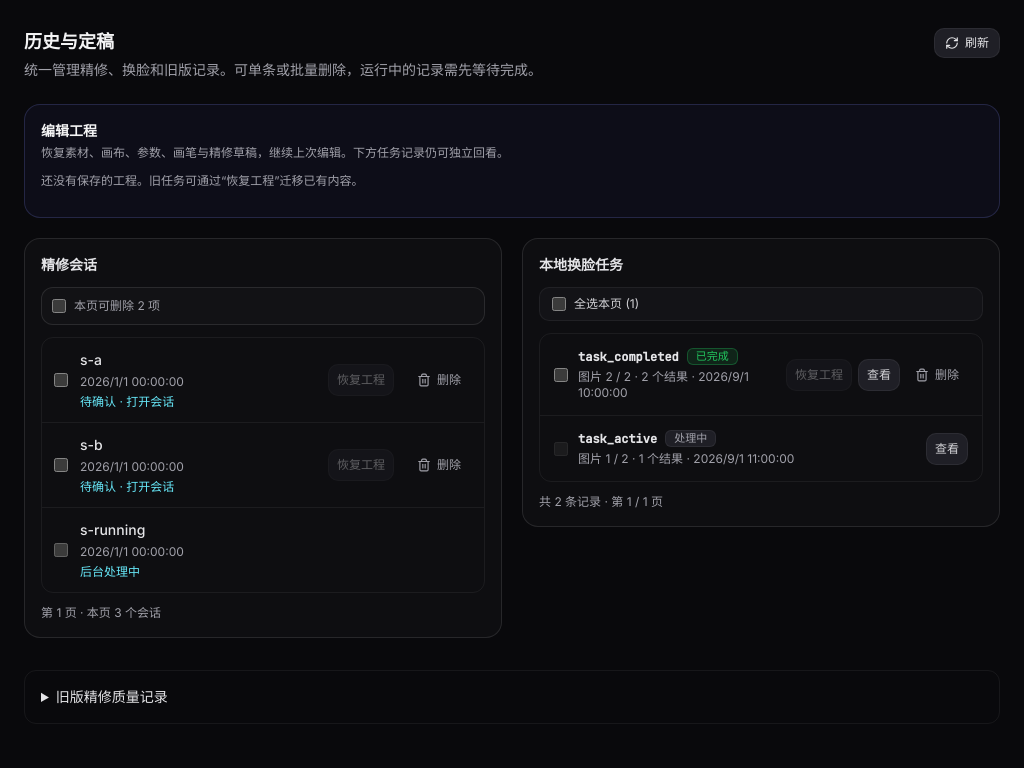
Test: HistoryWorkspace batch task deletion › batch deletes idle refinement sessions with individual revisions and retains conflicts
Click the checkbox named "选择精修会话 s-a" at (61, 380), box [54,373,68,387]
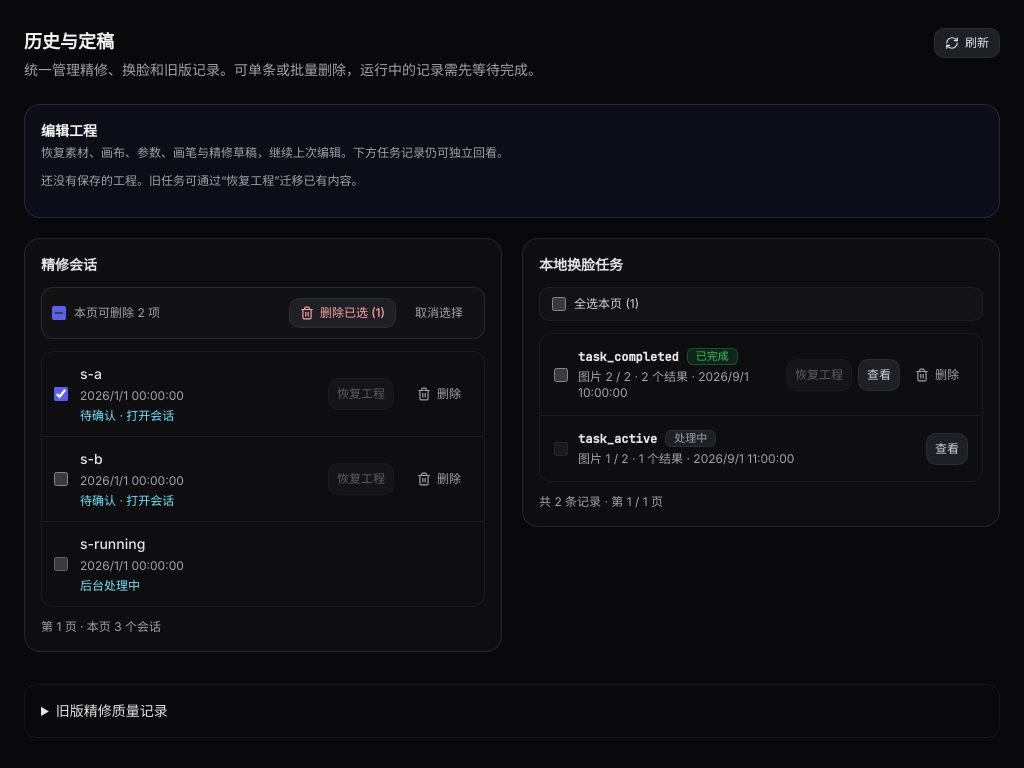
Click the checkbox named "选择精修会话 s-b" at (61, 479), box [54,472,68,486]
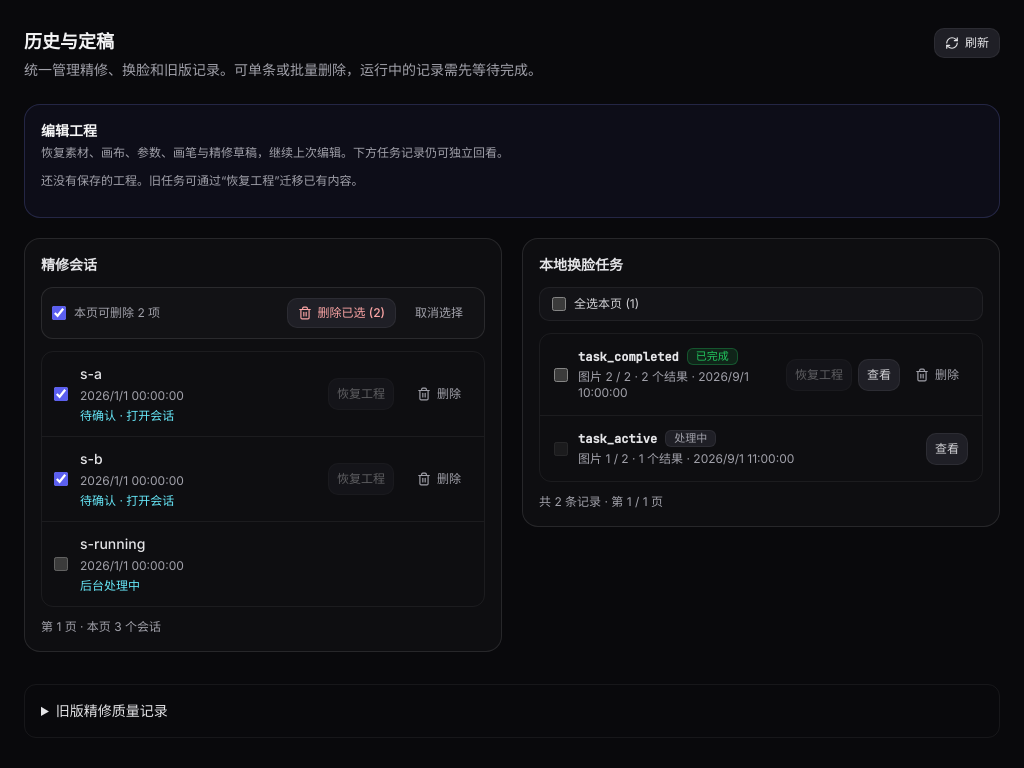
Check: the checkbox named "选择精修会话 s-running" is disabled, box [54,557,68,571]
Click the button with aria-label "批量删除精修会话 2 项" at (341, 313), box [286,298,396,328]
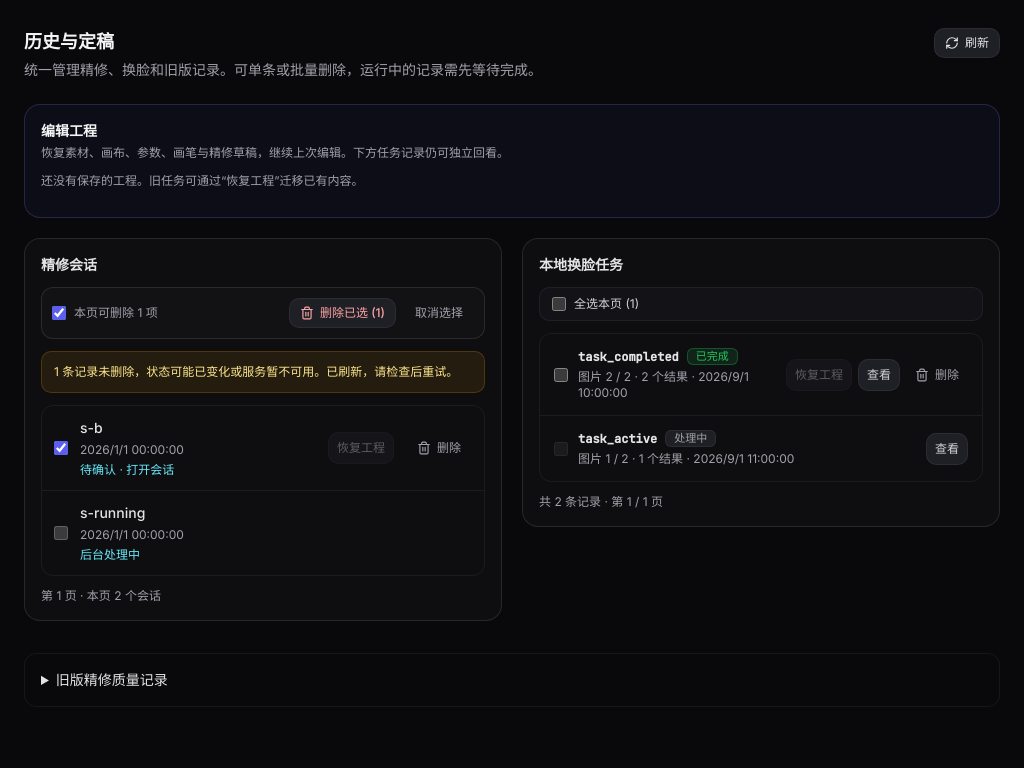
Check: the checkbox named "选择精修会话 s-b" is checked, box [54,441,68,455]
Check: the text "1 条记录未删除，状态可能已变化或服务暂不可用。已刷新，请检查后重试。" is shown, box [41,351,485,393]
